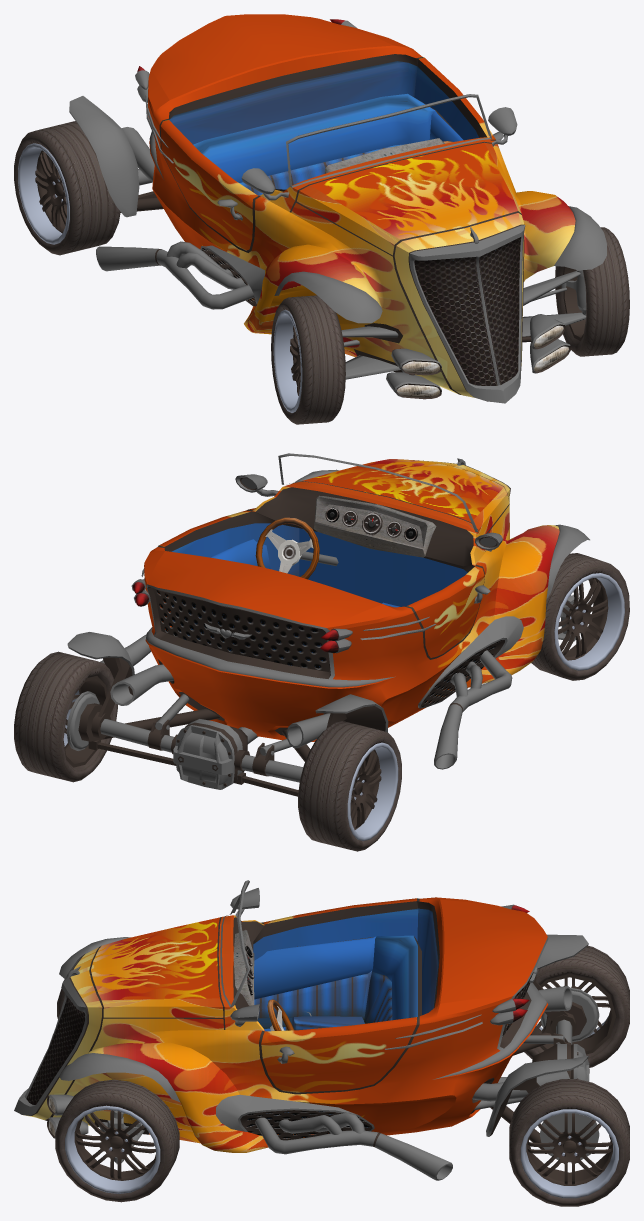
The model's file is auto.glb.
3 views of the same model, one above another, from view 1: azimuth 30°, elevation 25°; view 2: azimuth 150°, elevation 25°; view 3: azimuth 270°, elevation 25° (orthographic). The views are drawn at different scales.
Visible parts, largest first — view 1: node_id116, node_id124, node_id120, node_id112, node_id122, node_id100, node_id107, node_id55, node_id86, node_id36, node_id96, node_id109 (+11 smaller); view 2: node_id116, node_id124, node_id114, node_id122, node_id112, node_id93, node_id100, node_id55, node_id103, node_id118, node_id62, node_id96 (+14 smaller); view 3: node_id116, node_id124, node_id112, node_id55, node_id89, node_id122, node_id82, node_id93, node_id86, node_id41, node_id36, node_id120 (+14 smaller).
Part boxes in pixels (x1,y1,x2,y2): node_id116: [148, 14, 575, 397]; node_id124: [169, 61, 478, 264]; node_id120: [414, 237, 521, 385]; node_id112: [145, 95, 607, 403]; node_id122: [159, 54, 524, 401]; node_id100: [20, 121, 120, 255]; node_id107: [280, 295, 345, 424]; node_id55: [96, 127, 254, 309]; node_id86: [571, 227, 629, 356]; node_id36: [69, 96, 152, 217]; node_id96: [18, 143, 69, 244]; node_id109: [341, 270, 586, 379]; node_id116: [144, 459, 559, 741]; node_id124: [171, 523, 494, 695]; node_id114: [152, 588, 504, 706]; node_id122: [147, 460, 510, 735]; node_id112: [141, 469, 589, 708]; node_id93: [14, 651, 111, 782]; node_id100: [298, 721, 395, 851]; node_id55: [100, 634, 512, 769]; node_id103: [554, 573, 624, 670]; node_id118: [314, 495, 436, 557]; node_id62: [173, 719, 258, 789]; node_id96: [347, 742, 398, 841]; node_id116: [23, 897, 548, 1152]; node_id124: [248, 908, 438, 1127]; node_id112: [14, 937, 548, 1131]; node_id55: [251, 985, 572, 1180]; node_id89: [520, 1109, 618, 1198]; node_id122: [22, 898, 531, 1134]; node_id82: [65, 1105, 160, 1193]; node_id93: [509, 1079, 629, 1206]; node_id86: [55, 1079, 179, 1202]; node_id41: [474, 1056, 599, 1162]; node_id36: [523, 934, 599, 1044]; node_id120: [26, 996, 85, 1104].
Bounding box in the file's own units: 0.512 × 0.2938 × 0.7707.
44 materials, 44 textured.
